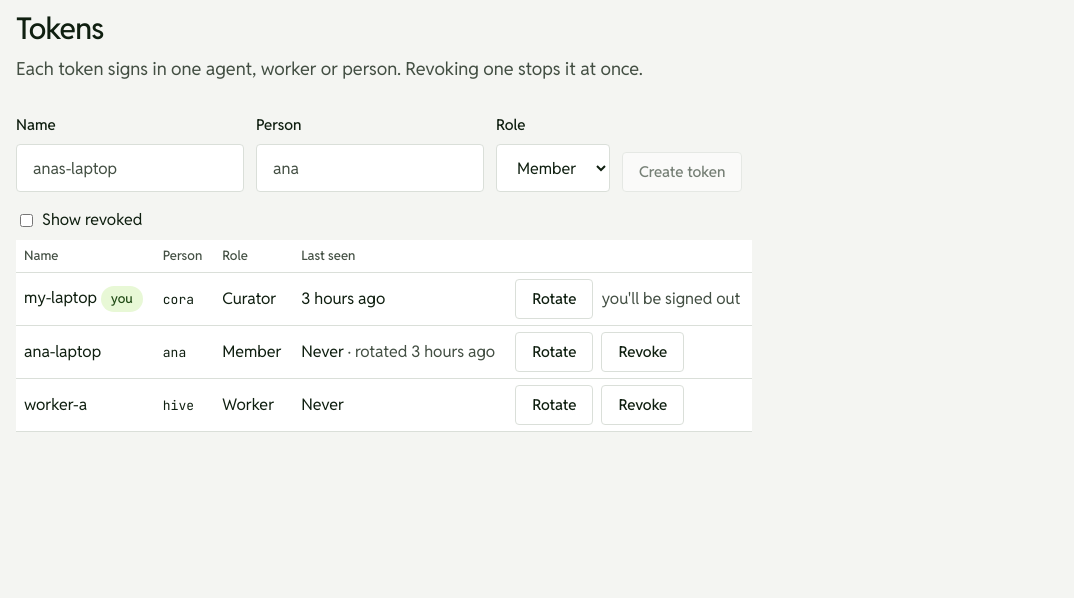
Scenario: tokens page › rotate shows the new token once, and Dismiss removes it
Expected: the text "ana-laptop" is shown, [16,325,155,378]
Click the button with aria-label "Rotate worker-a".
click(554, 404)  # box [515,384,593,424]
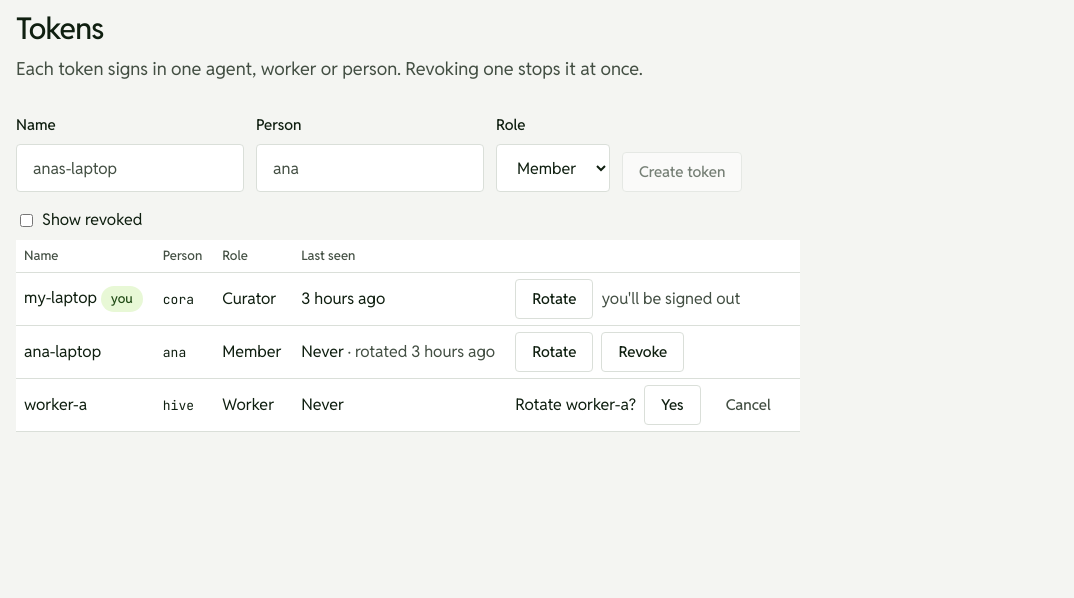
Click the button "Yes".
click(672, 404)  # box [644,384,701,424]
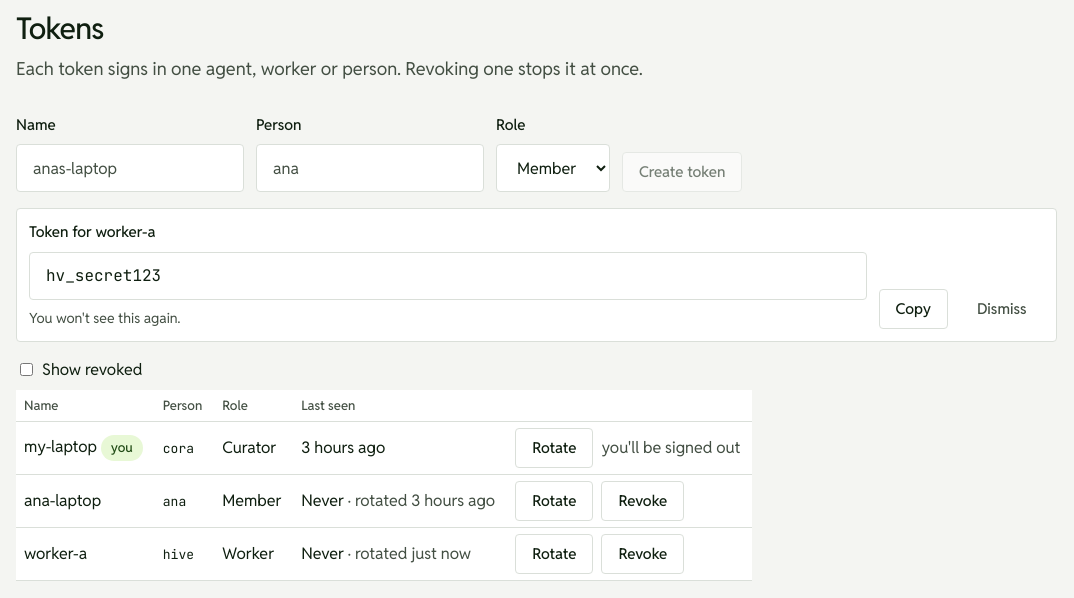
Result: the field labelled "Token for worker-a" holds "hv_secret123" at [29,252,867,300]
Result: the text "You won't see this again." is shown at [29,308,180,326]
Click the button "Dismiss".
click(1002, 308)  # box [960,288,1044,328]
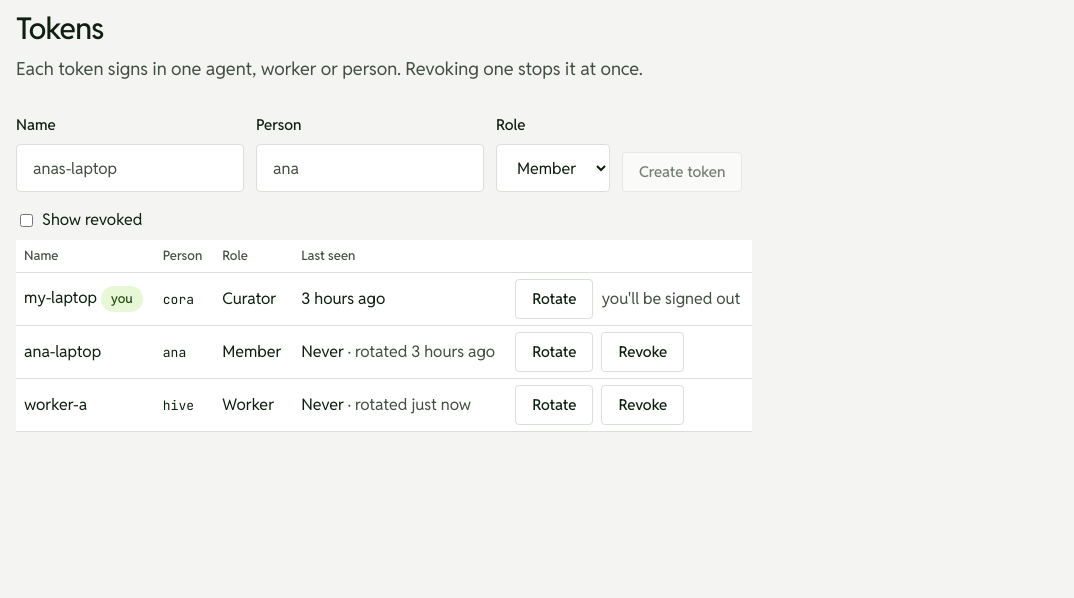
Expected: the field showing "hv_secret123" is not shown
Result: the label labelled "Token for worker-a" is gone
